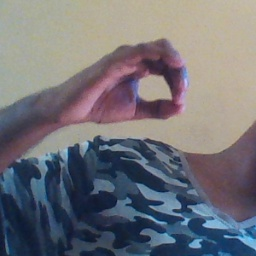O: (70, 30, 194, 137)
